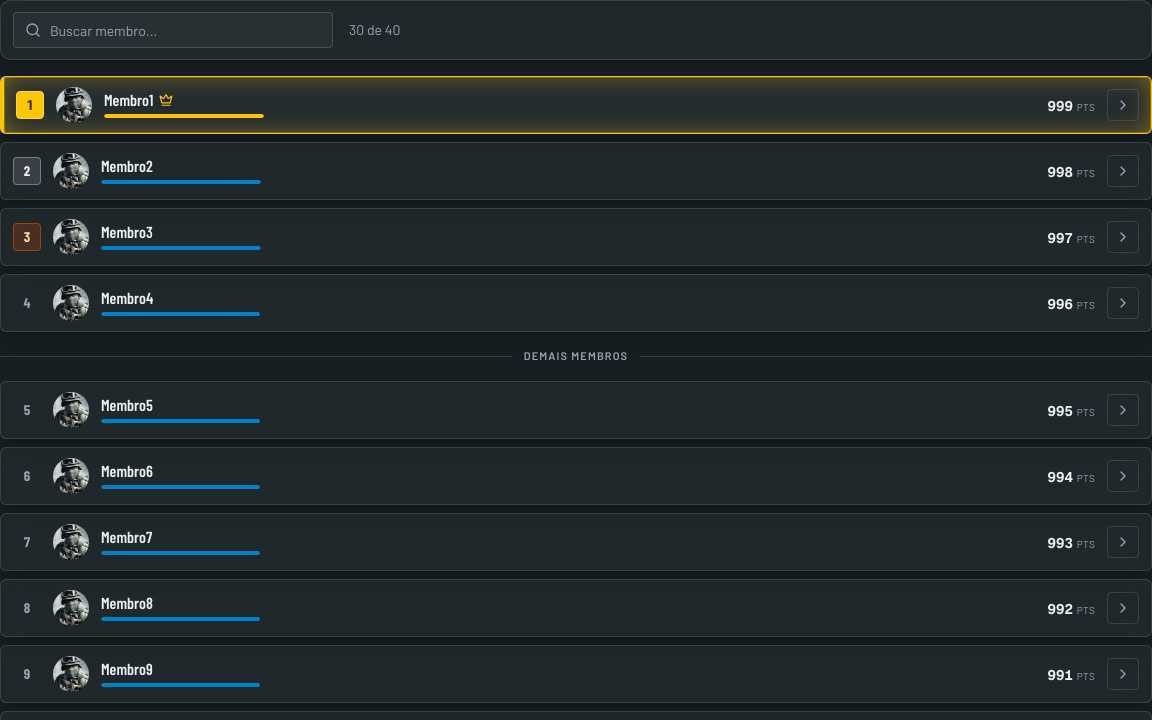
Scenario: RankingList › restarts the reveal when the search changes
Expected: the message reads "30 de 40", [349,20,400,40]
Type "membro" into the search field labelled "Buscar membro..." at (173, 30), box [13,12,333,48]
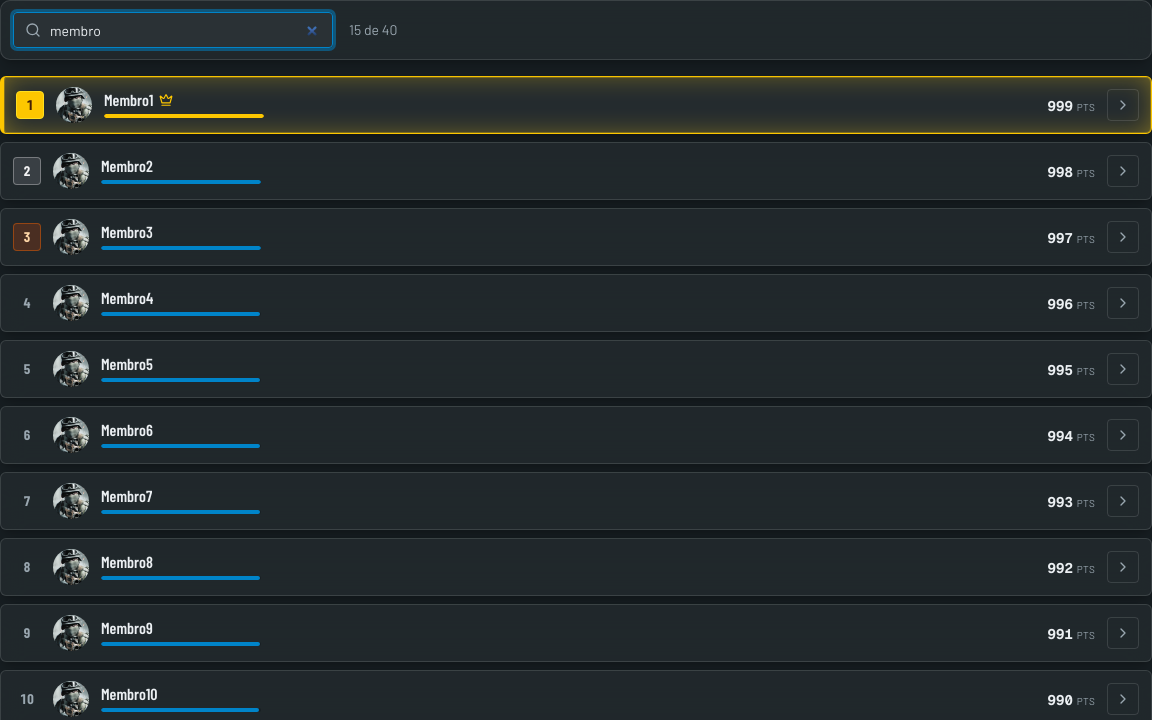
Expected: the message reads "15 de 40", [349,20,398,40]
